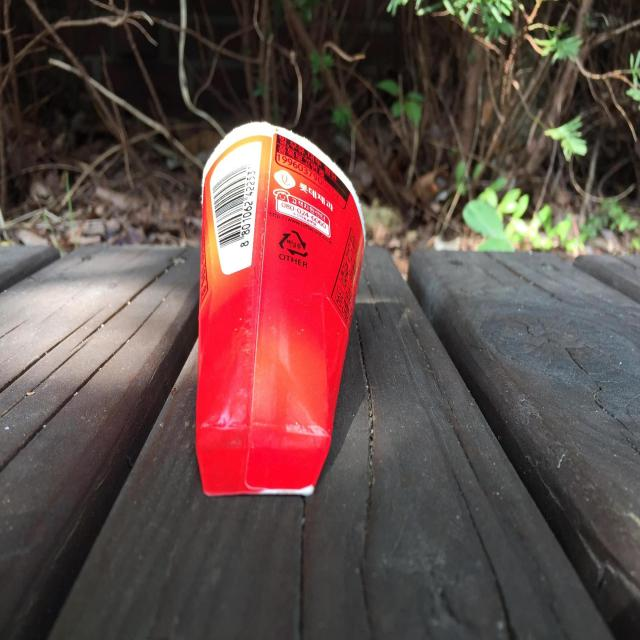paperpack: (196, 121, 365, 495)
